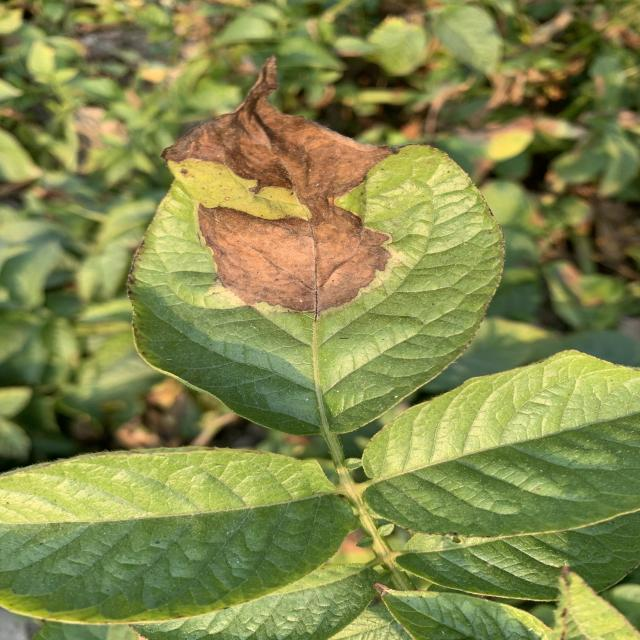lateblight: (162, 58, 395, 314)
